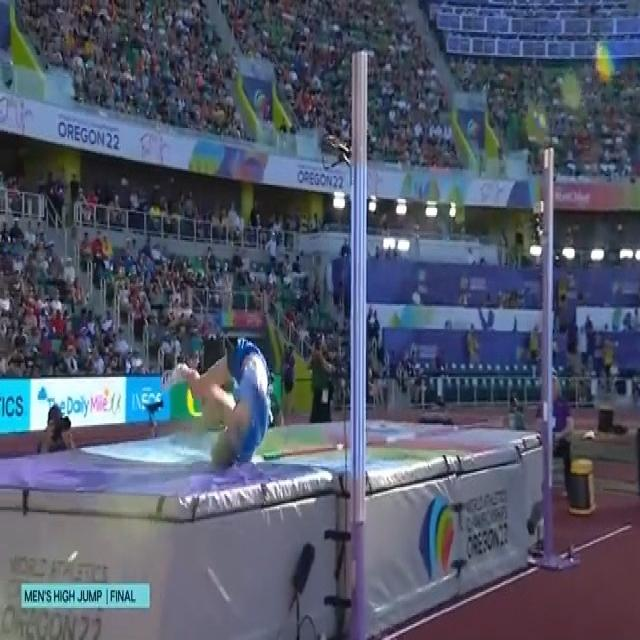land: (163, 339, 270, 467)
